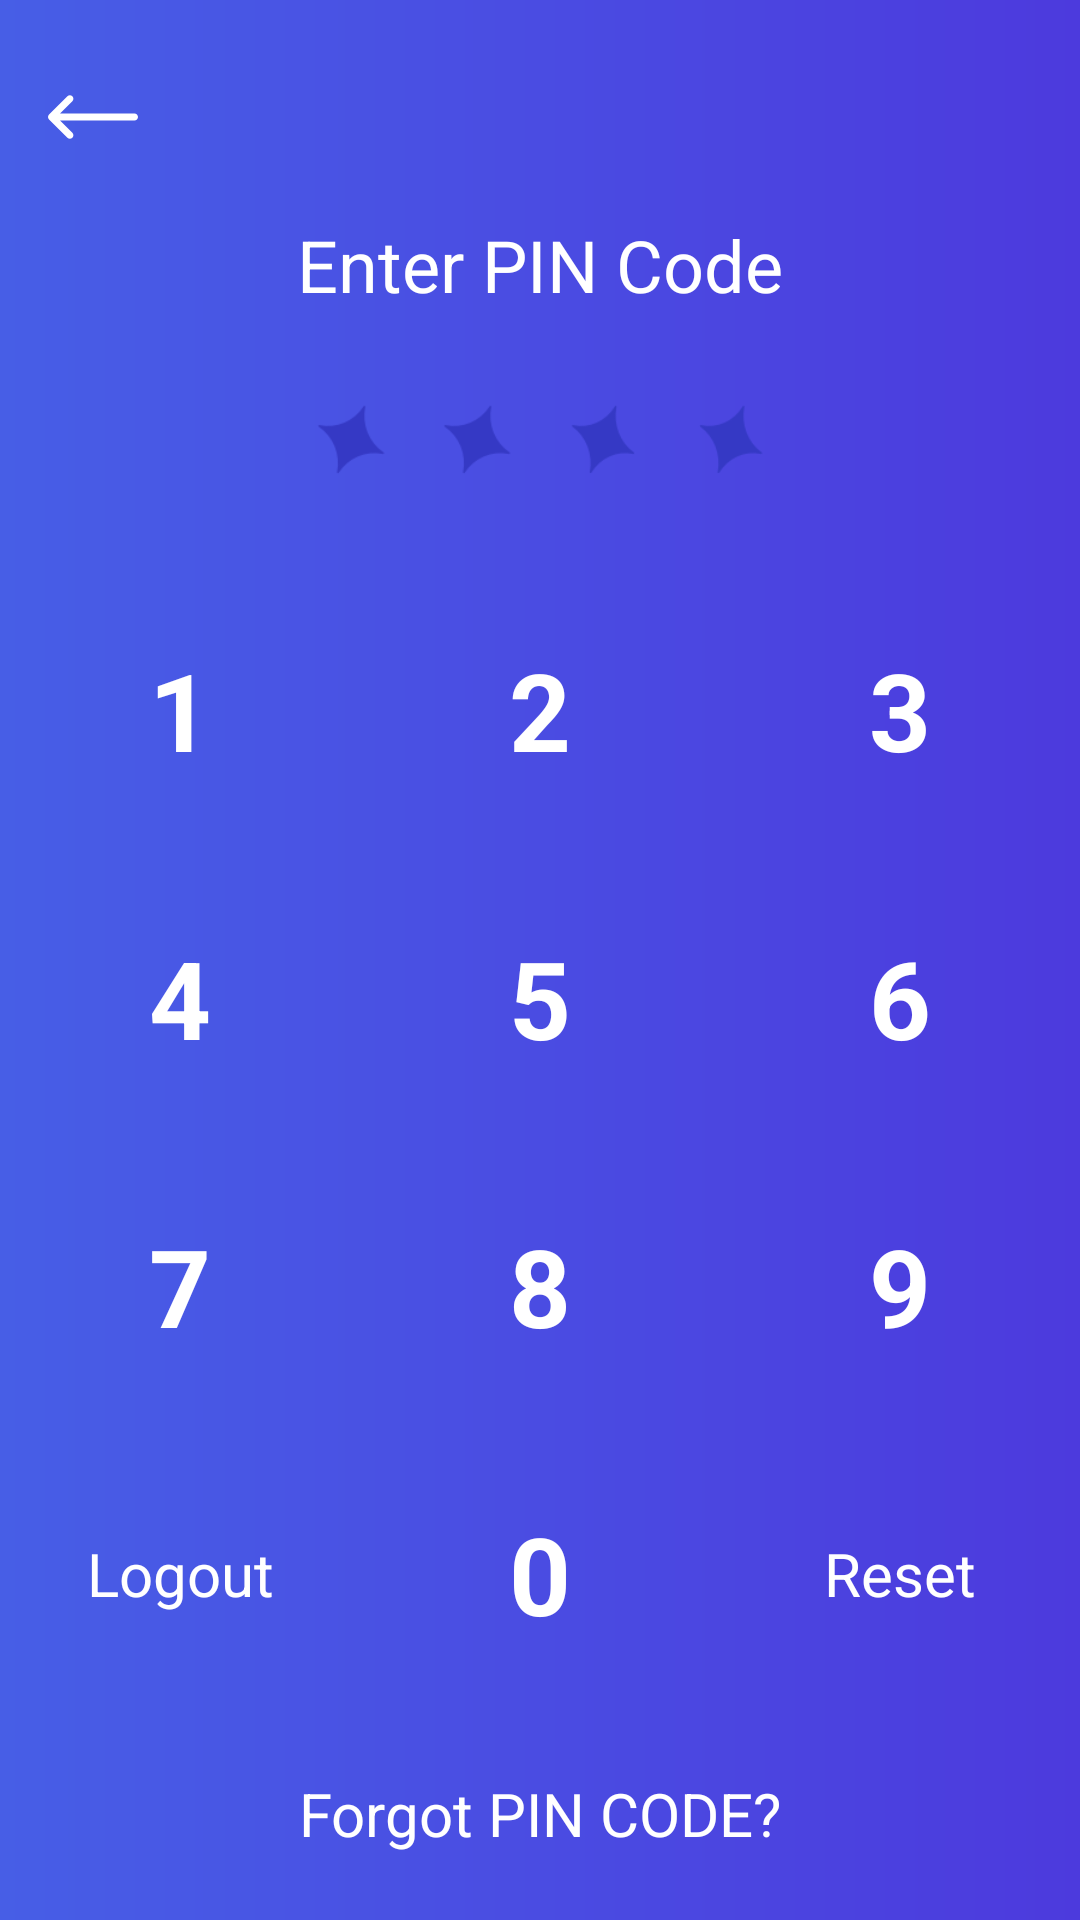

Icons on this 1080px×1920px Android screen, each with its box as [x1,y1,x2,y2]:
back arrow: [48,95,138,139]
